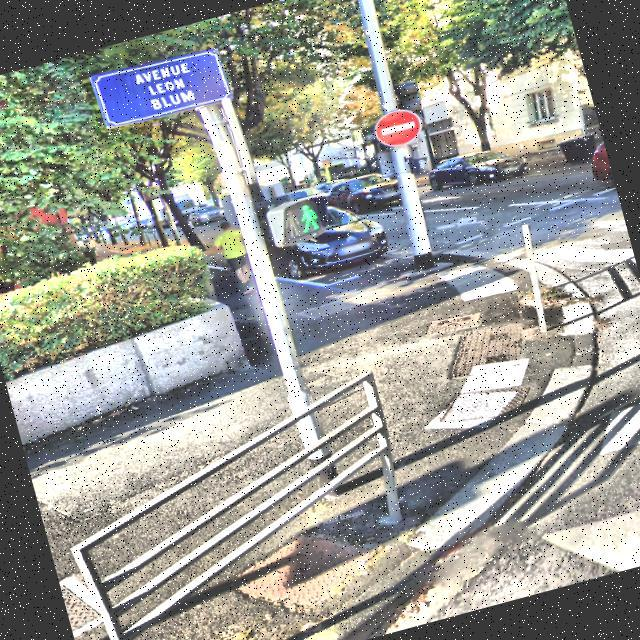green_light: (290, 198, 322, 234)
